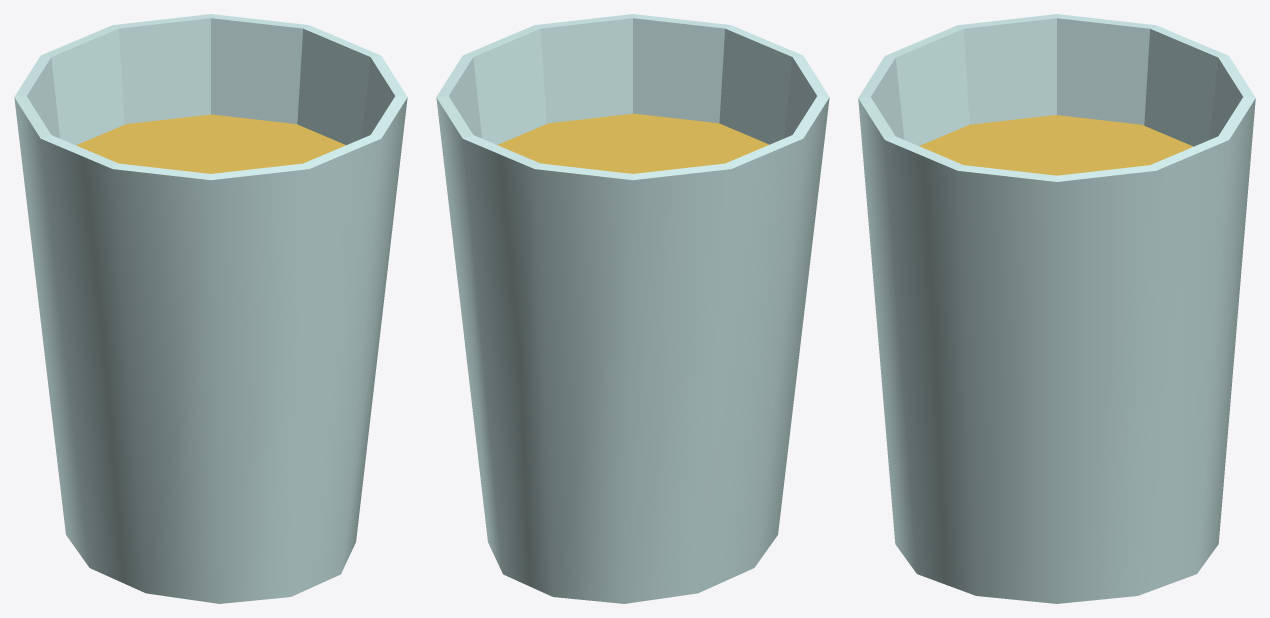
The model's file is appleJuice2.FBX.
3 views of the same model, side by side, from view 1: azimuth 30°, elevation 25°; view 2: azimuth 150°, elevation 25°; view 3: azimuth 270°, elevation 25° (orthographic).
Visible parts, largest first — view 1: Cylinder001, Cylinder002; view 2: Cylinder001, Cylinder002; view 3: Cylinder001, Cylinder002.
Part boxes in pixels (box(x1,y1,x2,y2)): Cylinder001: box(14, 14, 407, 603); Cylinder002: box(76, 114, 345, 173); Cylinder001: box(436, 14, 829, 603); Cylinder002: box(497, 113, 769, 173); Cylinder001: box(858, 14, 1255, 603); Cylinder002: box(919, 115, 1193, 175).
Bounding box in the file's own units: 43.96 × 54.56 × 43.96.
